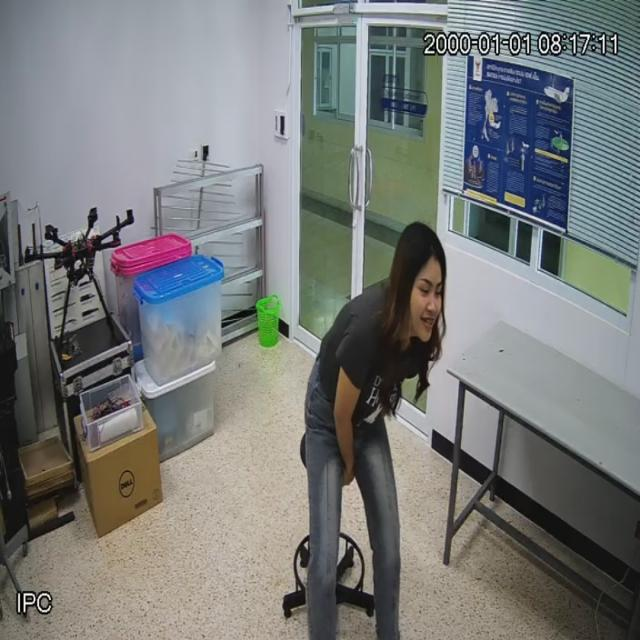normal: (307, 221, 446, 640)
